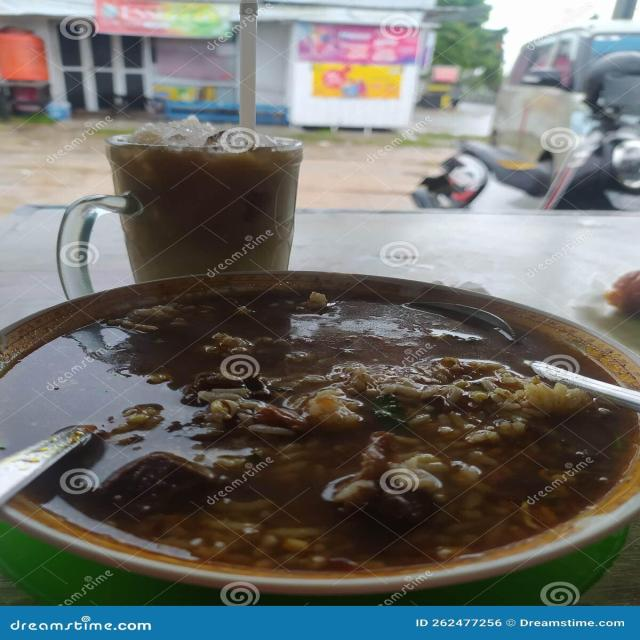Rawon: (29, 300, 610, 546)
